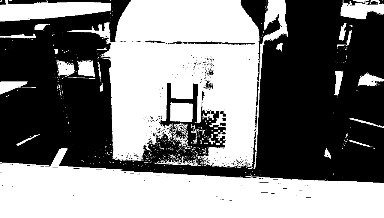H: (161, 79, 200, 121)
